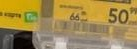1d: (52, 17, 109, 35)
